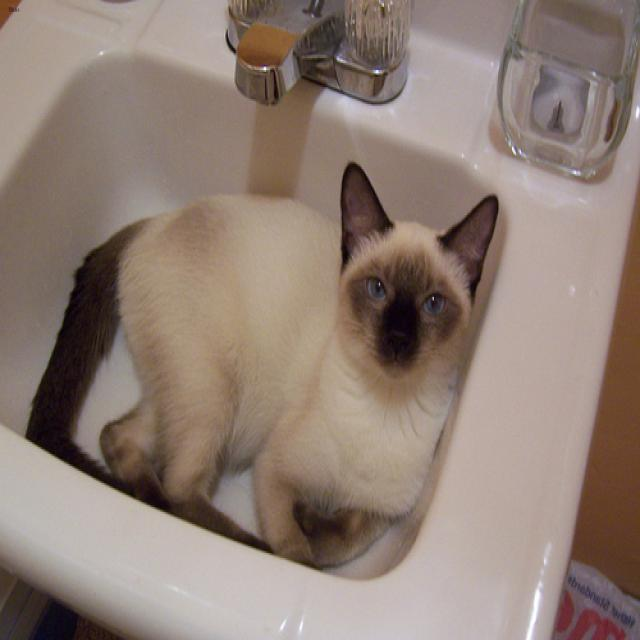cat: (338, 158, 497, 380)
